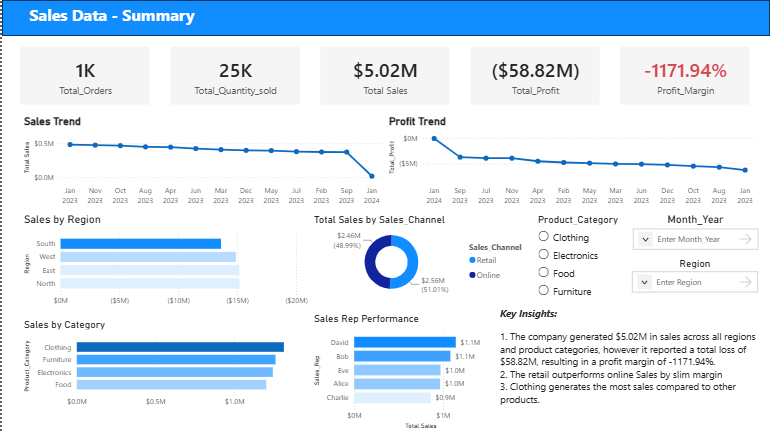

The page's visual inventory and layout, read from the dashboard file:
{"tool":"powerbi","page":{"name":"Page 1","canvas":[1280,720],"ordinal":0},"visuals":[{"type":"textbox","box":[0,0,1280,60],"z":0},{"type":"cardVisual","fields":{"Data":["sales_data.Total Sales"]},"box":[514,60,250,132],"z":1000},{"type":"cardVisual","fields":{"Data":["sales_data.Total_Profit"]},"box":[764,60,250,132],"z":2000},{"type":"cardVisual","fields":{"Data":["sales_data.Total_Quantity_sold"]},"box":[264,60,250,132],"z":3000},{"type":"cardVisual","fields":{"Data":["sales_data.Total_Orders"]},"box":[14,60,250,132],"z":4000},{"type":"cardVisual","fields":{"Data":["sales_data.Profit_Margin"]},"box":[1014,60,250,132],"z":5000},{"type":"lineChart","title":"Sales Trend","fields":{"Category":["sales_data.Month_Year"],"Y":["sales_data.Total Sales"]},"box":[31.4,191.4,608.6,157.1],"z":6000},{"type":"lineChart","title":"Profit Trend","fields":{"Category":["sales_data.Month_Year"],"Y":["sales_data.Total_Profit"]},"box":[640,191.4,622.9,157.1],"z":7000},{"type":"clusteredBarChart","title":"Sales by Category","fields":{"Category":["sales_data.Product_Category"],"Y":["sales_data.Total Sales"]},"box":[31.4,530,482.9,157.1],"z":8000},{"type":"clusteredBarChart","title":"Sales by Region","fields":{"Y":["sales_data.Total_Profit"],"Category":["sales_data.Region"]},"box":[31.4,355.7,482.9,164.3],"z":9000},{"type":"barChart","title":"Sales Rep Performance","fields":{"Y":["sales_data.Total Sales"],"Category":["sales_data.Sales_Rep"]},"box":[514.3,520,311.4,200],"z":10000},{"type":"donutChart","fields":{"Y":["sales_data.Total Sales"],"Category":["sales_data.Sales_Channel"]},"box":[514.3,355.7,374.3,144.3],"z":11000},{"type":"textSlicer","fields":{"Values":["sales_data.Month_Year"]},"box":[904.3,348.6,218.6,62.9],"z":12000},{"type":"listSlicer","fields":{"Values":["sales_data.Product_Category"]},"box":[1124.3,348.6,155.7,151.4],"z":13000},{"type":"textSlicer","fields":{"Values":["sales_data.Region"]},"box":[902.9,424.3,220,64.3],"z":14000},{"type":"textbox","box":[825.7,500,438.6,220],"z":15000}]}

Visuals, with their boxes in screenshot pixels (x1, y1, x2, y2), scaled from the page's 1280x720 canvas onto the 770x432 screenshot:
textbox: {"left": 0, "top": 0, "right": 769, "bottom": 36}
cardVisual - sales_data.Total Sales: {"left": 309, "top": 36, "right": 460, "bottom": 115}
cardVisual - sales_data.Total_Profit: {"left": 460, "top": 36, "right": 610, "bottom": 115}
cardVisual - sales_data.Total_Quantity_sold: {"left": 159, "top": 36, "right": 309, "bottom": 115}
cardVisual - sales_data.Total_Orders: {"left": 8, "top": 36, "right": 159, "bottom": 115}
cardVisual - sales_data.Profit_Margin: {"left": 610, "top": 36, "right": 760, "bottom": 115}
"Sales Trend" lineChart: {"left": 19, "top": 115, "right": 385, "bottom": 209}
"Profit Trend" lineChart: {"left": 385, "top": 115, "right": 760, "bottom": 209}
"Sales by Category" clusteredBarChart: {"left": 19, "top": 318, "right": 309, "bottom": 412}
"Sales by Region" clusteredBarChart: {"left": 19, "top": 213, "right": 309, "bottom": 312}
"Sales Rep Performance" barChart: {"left": 309, "top": 312, "right": 497, "bottom": 431}
donutChart - sales_data.Total Sales x sales_data.Sales_Channel: {"left": 309, "top": 213, "right": 535, "bottom": 300}
textSlicer - sales_data.Month_Year: {"left": 544, "top": 209, "right": 675, "bottom": 247}
listSlicer - sales_data.Product_Category: {"left": 676, "top": 209, "right": 769, "bottom": 300}
textSlicer - sales_data.Region: {"left": 543, "top": 255, "right": 675, "bottom": 293}
textbox: {"left": 497, "top": 300, "right": 761, "bottom": 431}
